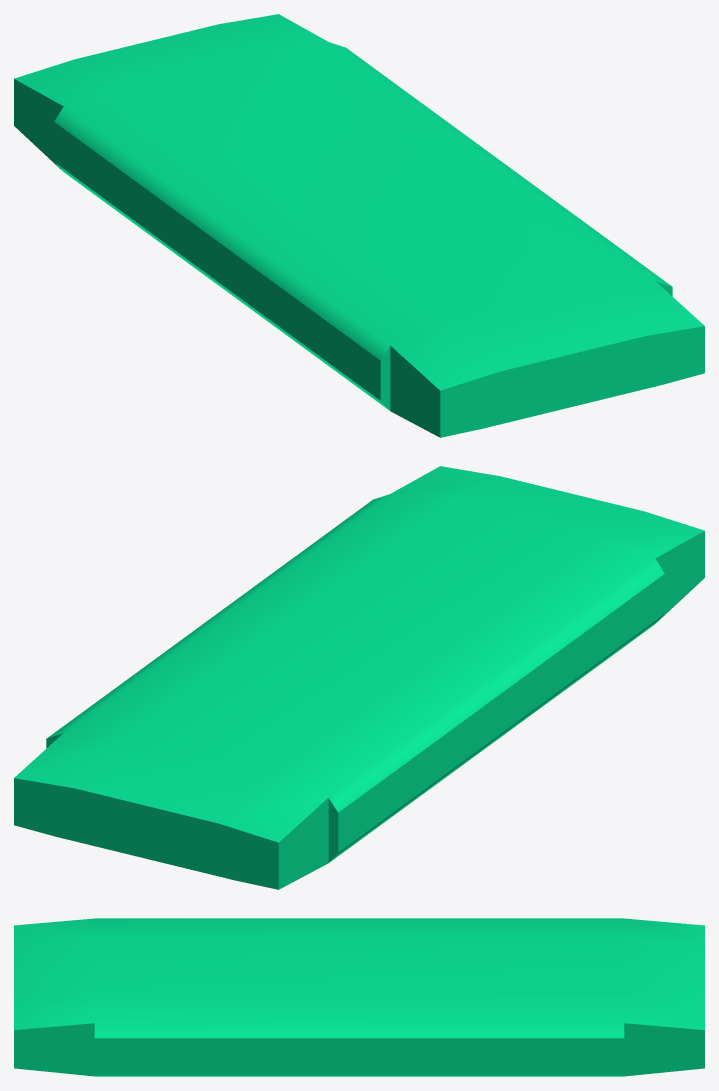
File: CollisionRectangular.fbx
3 views of the same model, one above another, from view 1: azimuth 30°, elevation 25°; view 2: azimuth 150°, elevation 25°; view 3: azimuth 270°, elevation 25° (orthographic). The views are drawn at different scales.
Parts seen in each view (by area): view 1: pCube190; view 2: pCube190; view 3: pCube190.
Boxes of the visible parts, x1,y1,x2,y2 form: pCube190: (14, 14, 704, 437); pCube190: (14, 466, 704, 889); pCube190: (14, 918, 704, 1076).
Size of the model in its own units: 648 by 157 by 1639.
